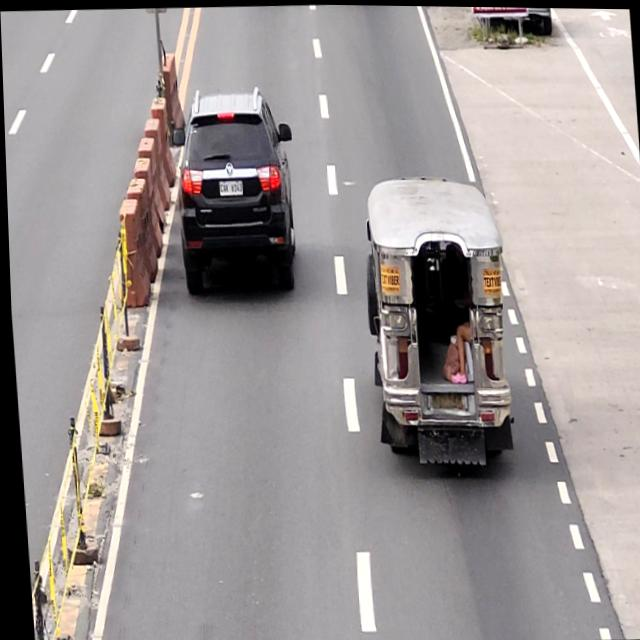Car: (167, 83, 301, 300)
Jeep: (355, 171, 516, 471)
License-Plate: (428, 391, 461, 410), (217, 177, 242, 197)
